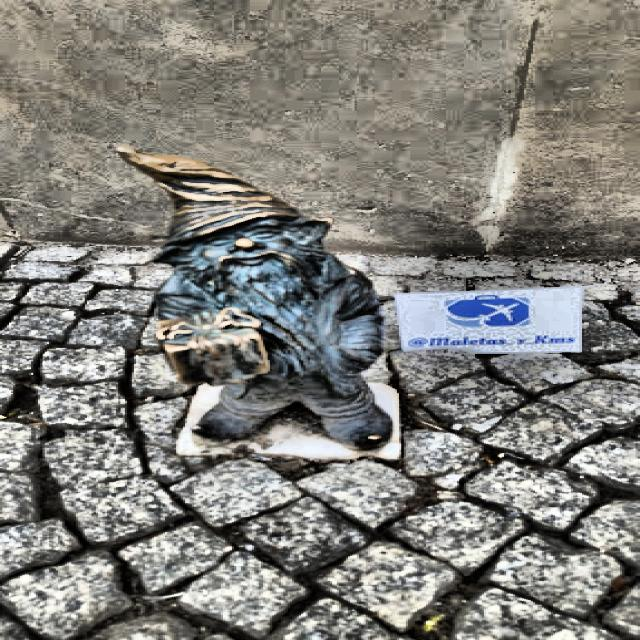Suvenirek: (121, 146, 391, 450)
